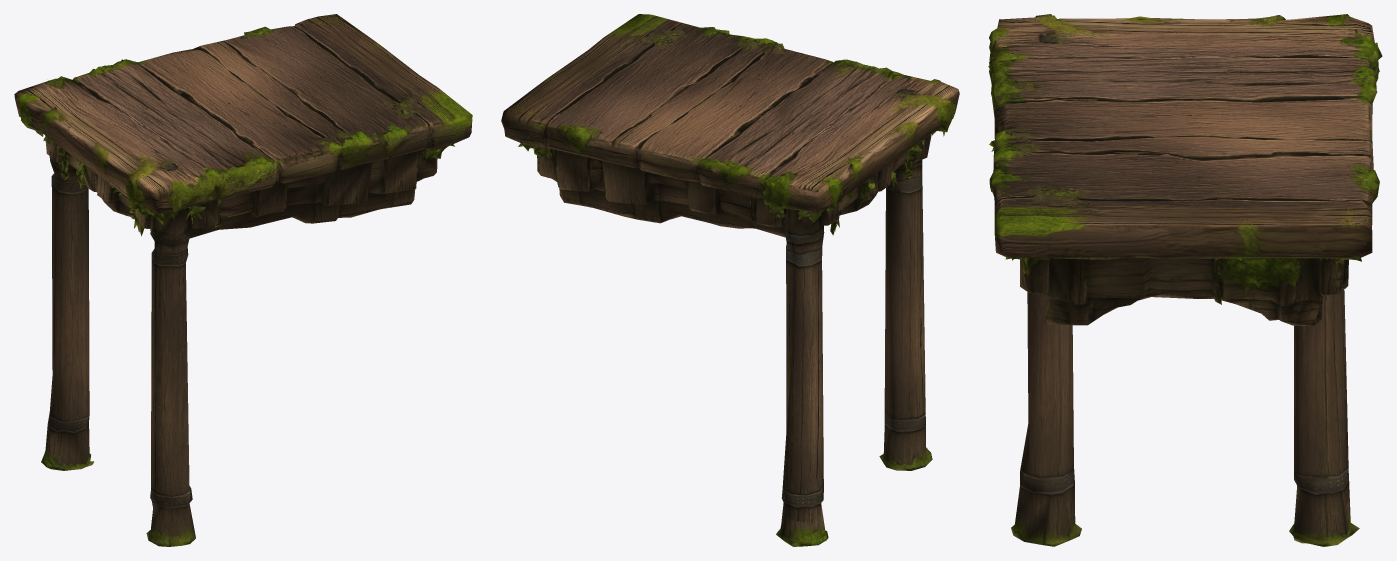
Rendered from Meshy_AI_Overgrown_Wooden_Plat_0609044420_texture.fbx.
3 views of the same model, side by side, from view 1: azimuth 30°, elevation 25°; view 2: azimuth 150°, elevation 25°; view 3: azimuth 270°, elevation 25° (orthographic). The views are drawn at different scales.
Visible parts, largest first — view 1: Mesh1.0; view 2: Mesh1.0; view 3: Mesh1.0.
Part boxes in pixels (left/top/right/bottom): Mesh1.0: left=14, top=14, right=472, bottom=546; Mesh1.0: left=501, top=14, right=959, bottom=546; Mesh1.0: left=988, top=14, right=1382, bottom=546.
Size of the model in its own units: 175 by 190 by 136.
Materials: 1 (1 with a texture image).
